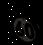Speed Limit -60-: (5, 5, 41, 45)
